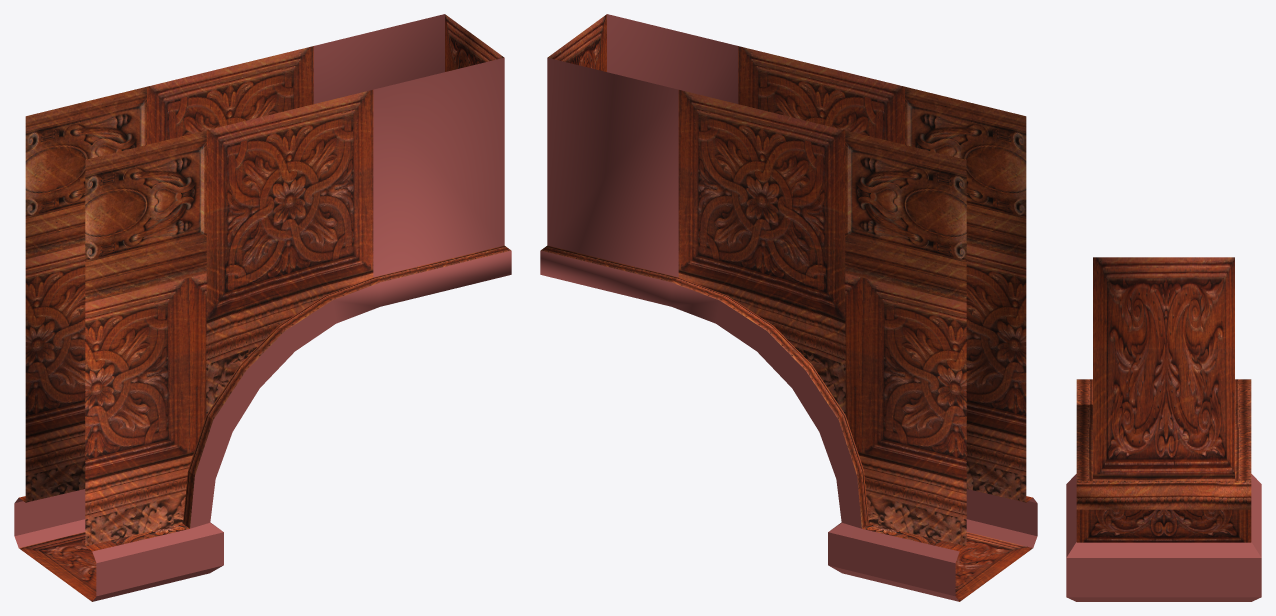
The model's file is ArchCornerPiece 1.fbx.
3 renders of one model, left to right at view 1: azimuth 30°, elevation 25°; view 2: azimuth 150°, elevation 25°; view 3: azimuth 270°, elevation 25°, orthographic. The views are drawn at different scales.
Visible parts, largest first — view 1: ArchCornerpiece; view 2: ArchCornerpiece; view 3: ArchCornerpiece.
Boxes of the visible parts, <box> form: ArchCornerpiece: <box>14,14,511,601</box>; ArchCornerpiece: <box>540,14,1037,601</box>; ArchCornerpiece: <box>1066,257,1261,601</box>.
Size of the model in its own units: 234 by 233 by 79.33.
